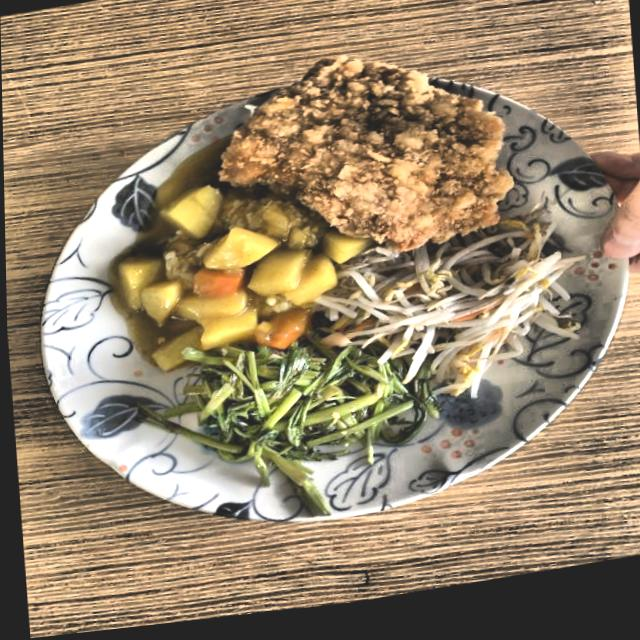Food: (233, 43, 515, 274), (184, 332, 406, 485), (119, 212, 317, 350), (374, 247, 544, 372)
